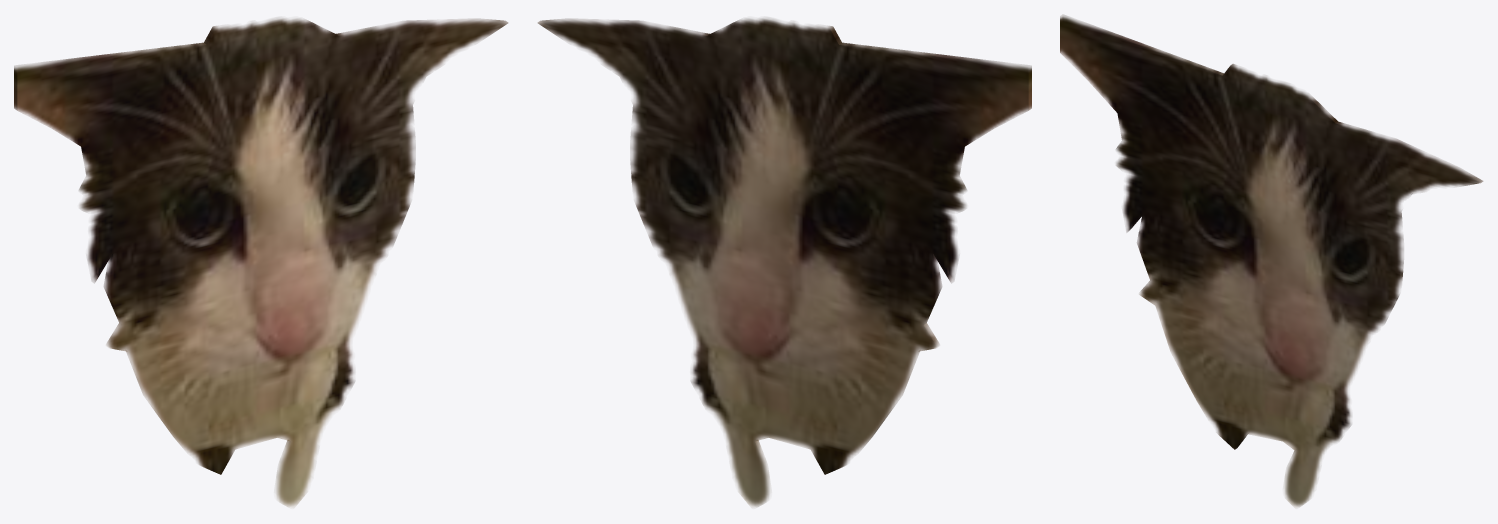
File: sog1.glb
The picture shows the model from 3 angles, left to right: view 1: azimuth 30°, elevation 25°; view 2: azimuth 150°, elevation 25°; view 3: azimuth 330°, elevation 25°; orthographic projection. The views are drawn at different scales.
Parts seen in each view (by area): view 1: sog-removebg-preview; view 2: sog-removebg-preview; view 3: sog-removebg-preview.
Part boxes in pixels (box(x1,y1,x2,y2)): sog-removebg-preview: box(14, 18, 507, 507); sog-removebg-preview: box(538, 18, 1031, 507); sog-removebg-preview: box(1060, 15, 1482, 507).
Size of the model in its own units: 0.8347 by 0.8268 by 0.00918.
Materials: 1 (1 with a texture image).
